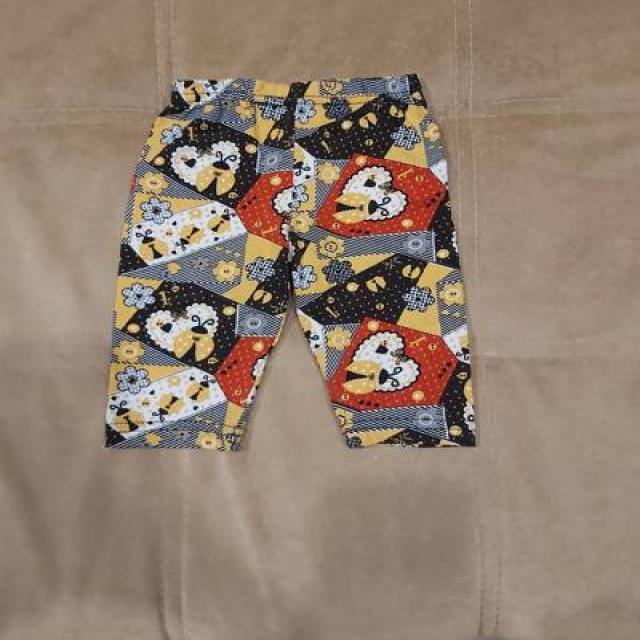Clothes -Biodegradable-: (102, 72, 473, 449)
